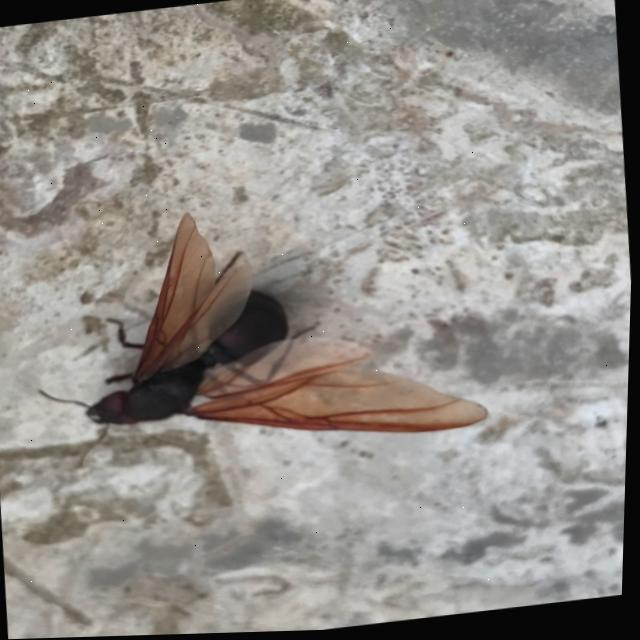Alive-Female-Alate: (22, 180, 498, 479)
